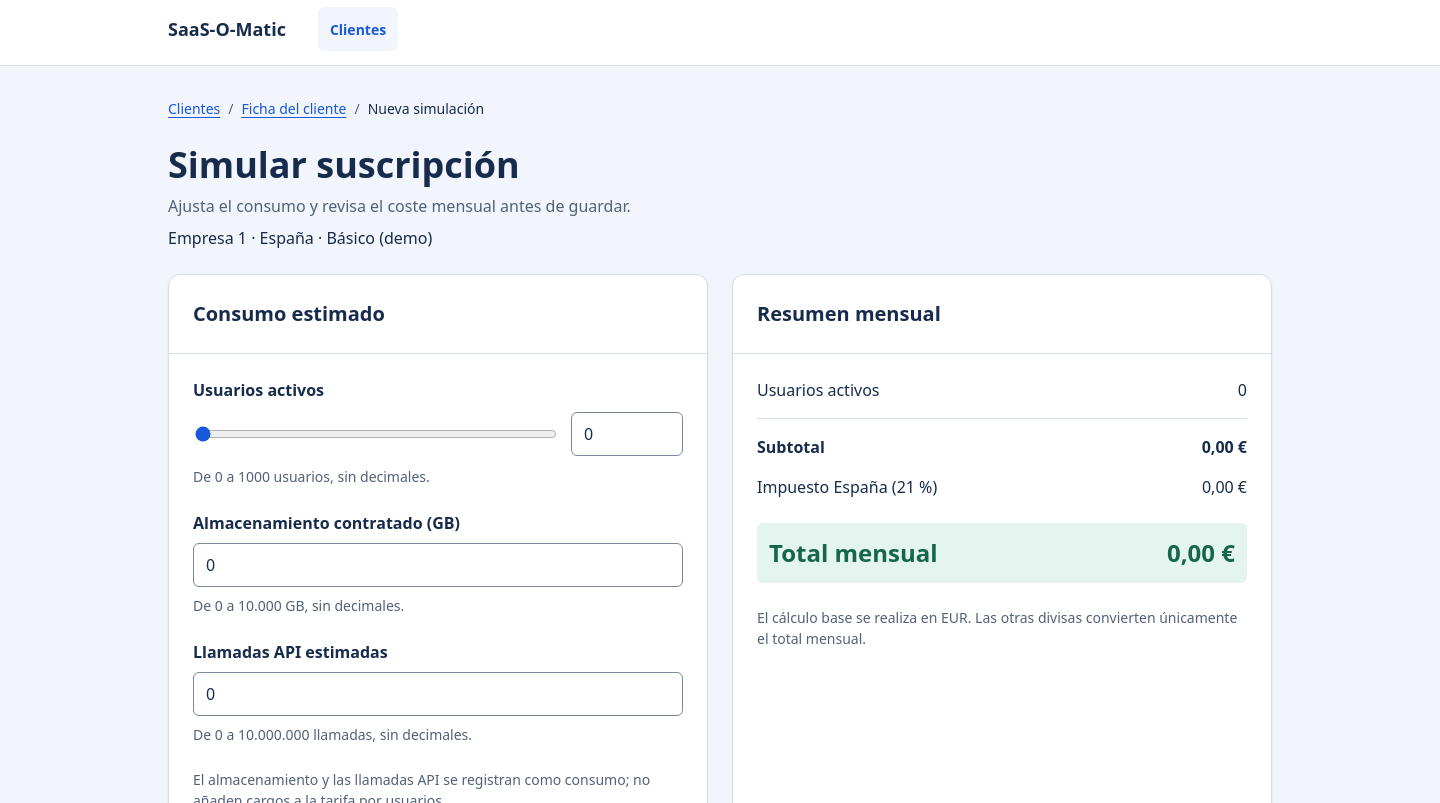
Scenario: WEB-POLICY-008 accepts new server versions and displays the saved amounts and snapshot without recalculation
Replace the text in the field labelled "Usuarios activos" with "15" at [627, 434], box [571, 412, 683, 456]
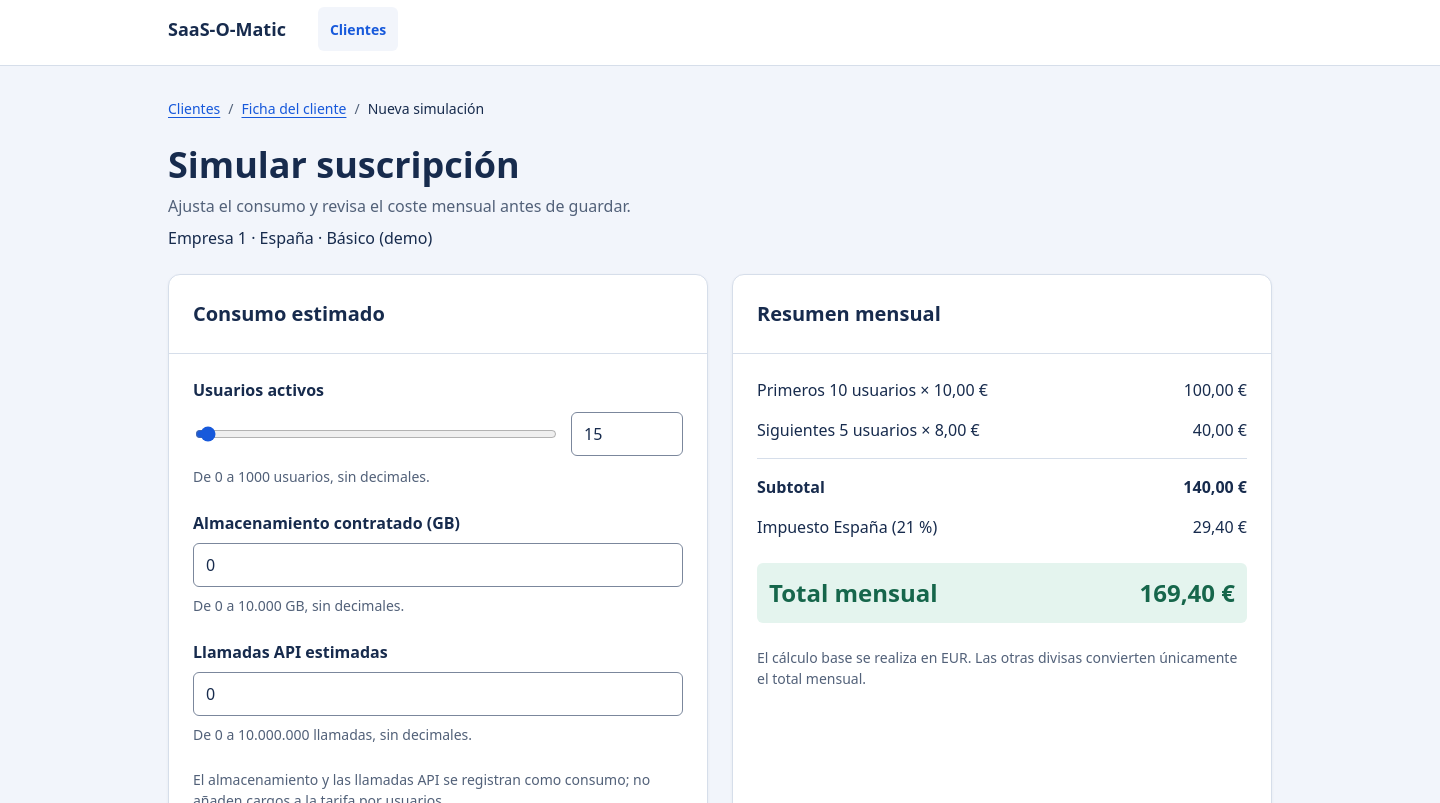
Replace the text in the field labelled "Almacenamiento contratado (GB)" with "500" at [438, 565], box [193, 543, 683, 587]
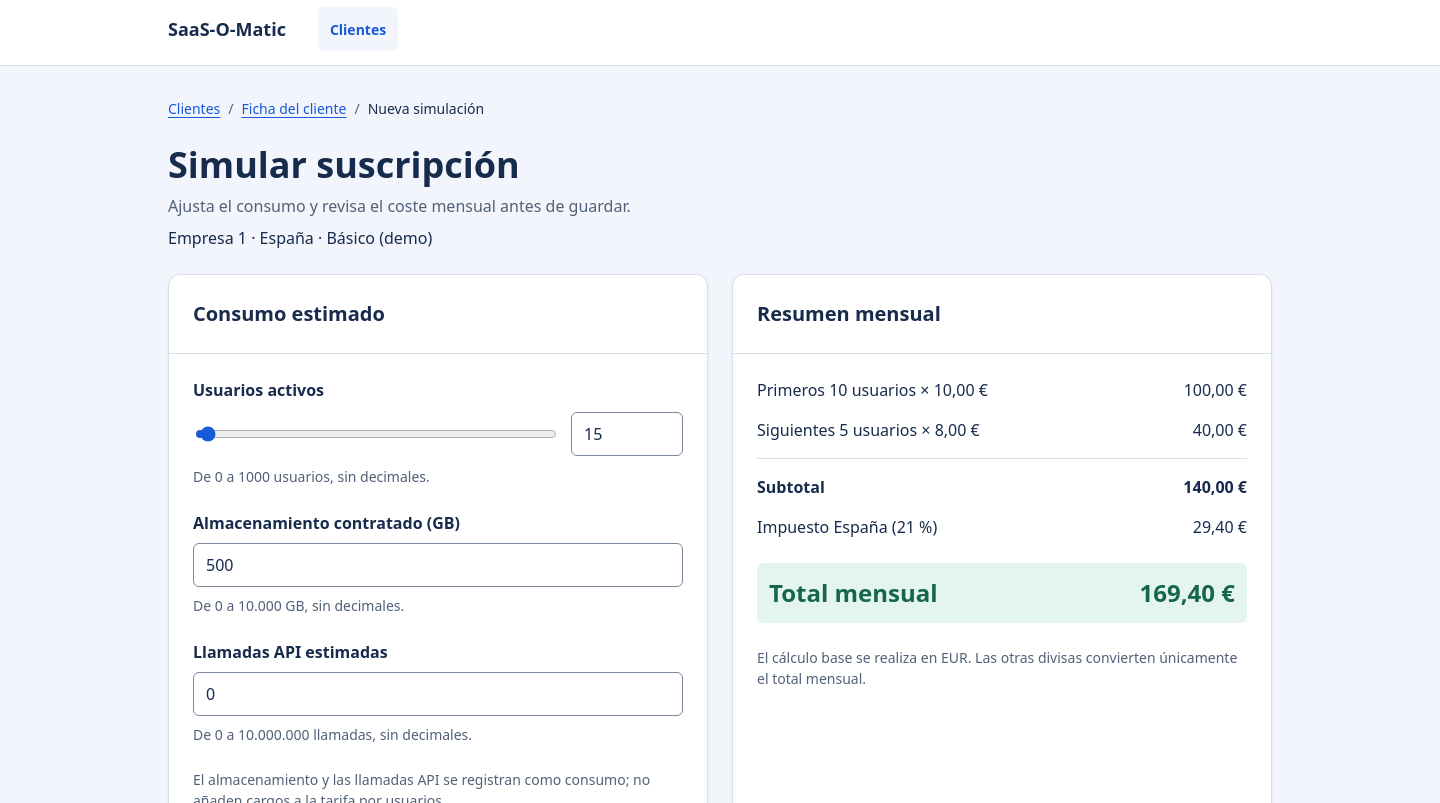
Replace the text in the field labelled "Llamadas API estimadas" with "1000000" at [438, 694], box [193, 672, 683, 716]
(page scrolled)
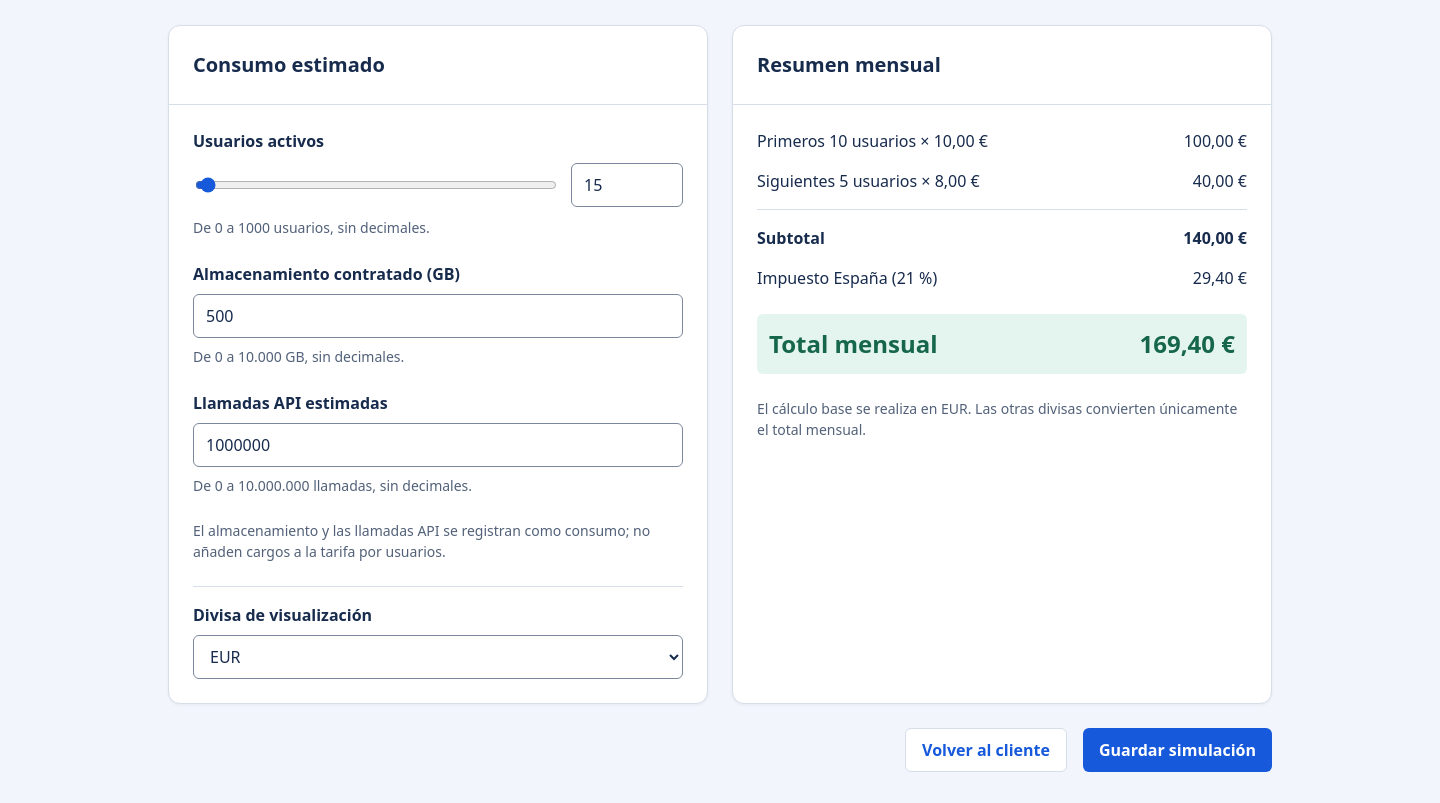
Submit the form named "Simulación de consumo"
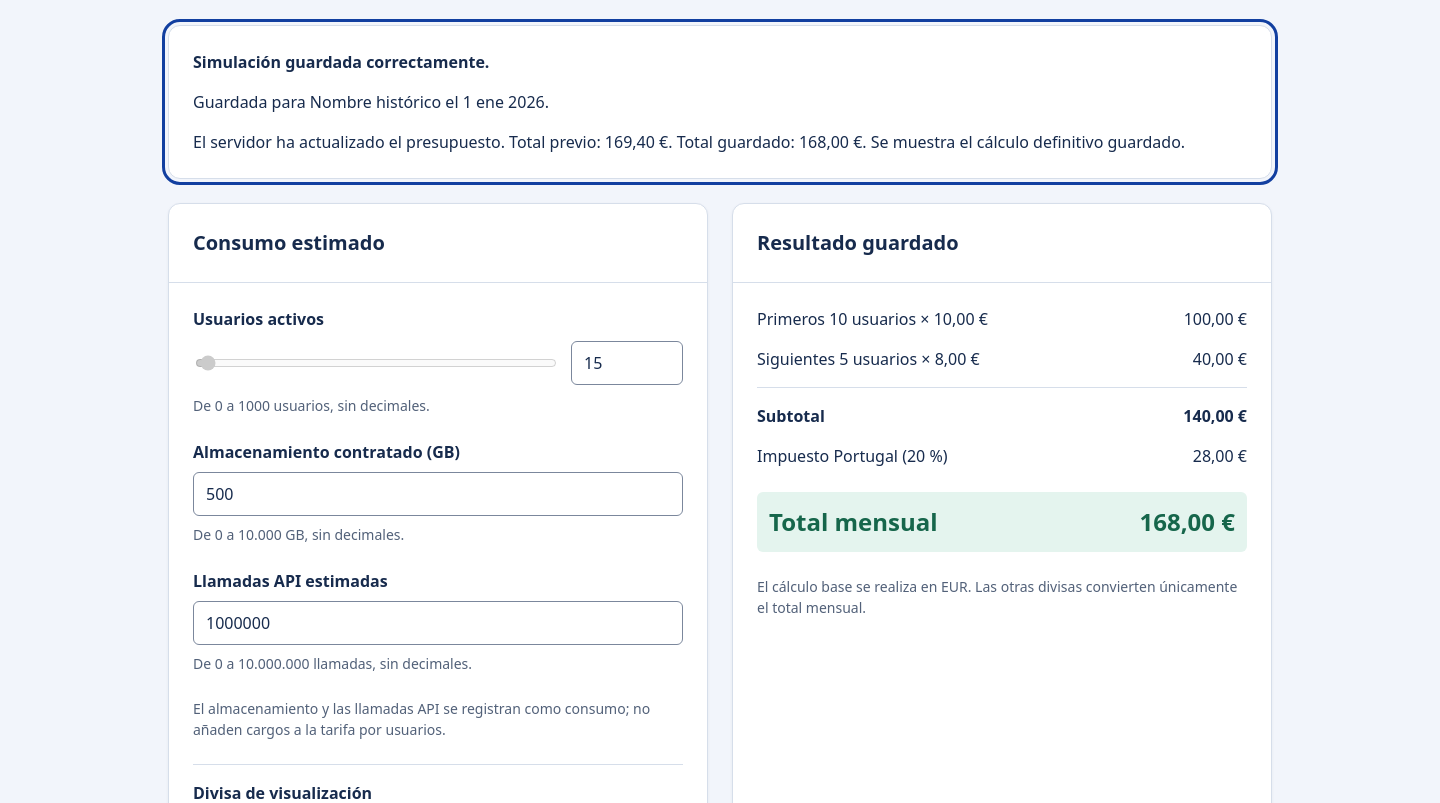
Expected: the heading "Resultado guardado" is shown, [733, 204, 1271, 283]
Expected: the text "El servidor ha actualizado" shows "169,40", [605, 131, 668, 153]
Expected: the text "El servidor ha actualizado" shows "168,00", [799, 131, 862, 153]
